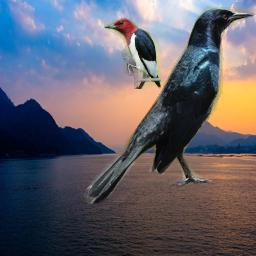Crow: (84, 6, 256, 207)
Woodpecker: (104, 18, 161, 89)
